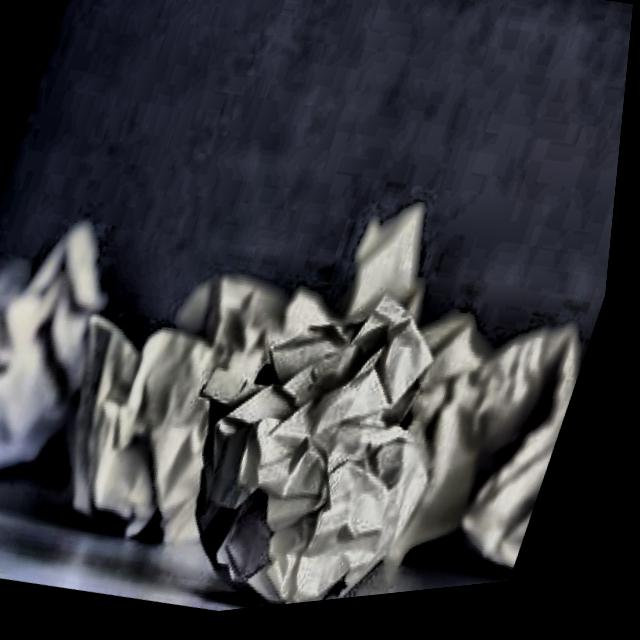Paper: (145, 225, 520, 624)
